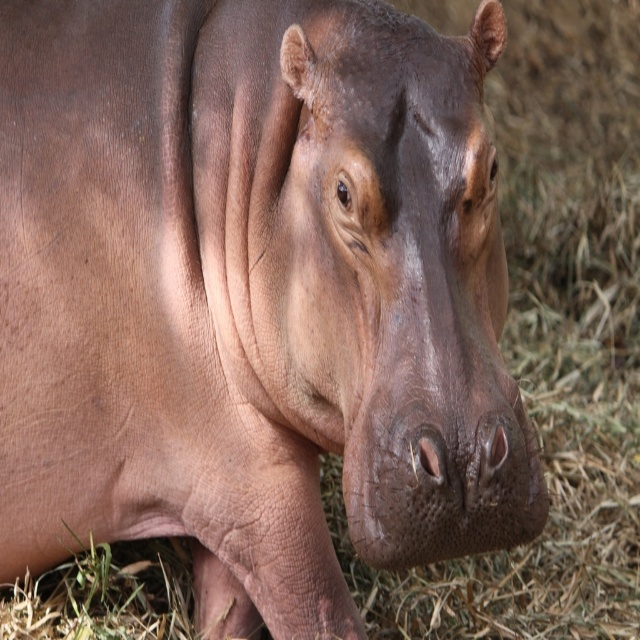Hippopotamus: (0, 0, 570, 640)
